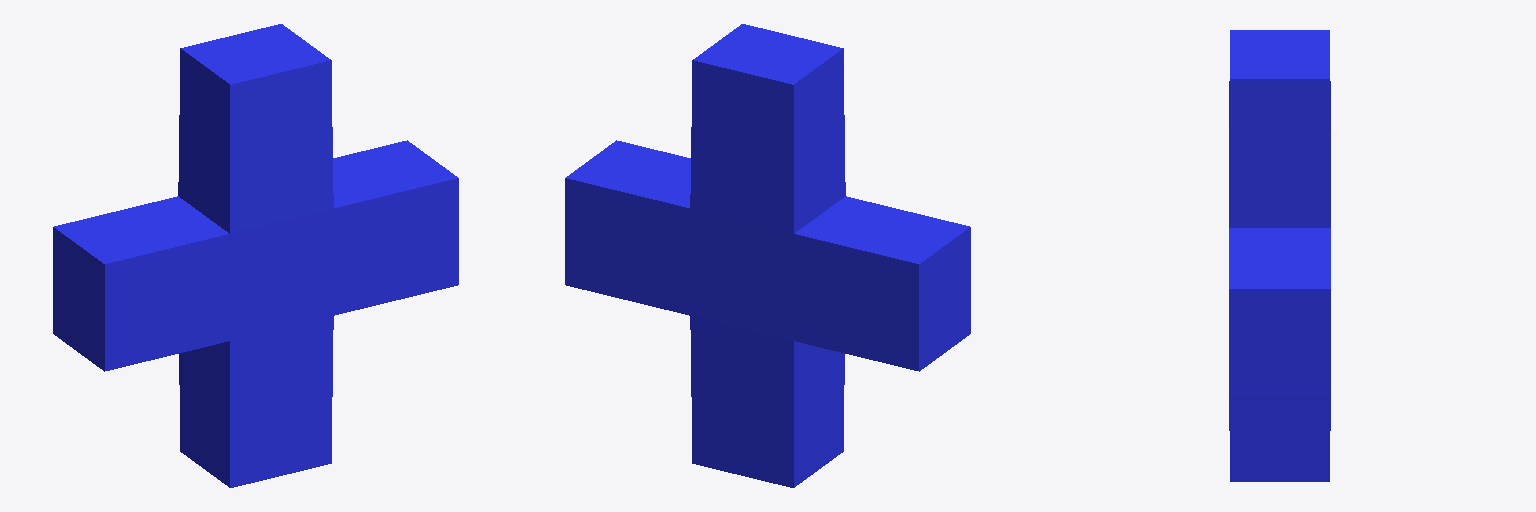
File: cruz.obj
3 renders of one model, left to right at view 1: azimuth 30°, elevation 25°; view 2: azimuth 150°, elevation 25°; view 3: azimuth 270°, elevation 25°, orthographic.
Parts seen in each view (by area): view 1: pCube1; view 2: pCube1; view 3: pCube1.
Part boxes in pixels (bbox=[...]): pCube1: bbox=[53, 24, 458, 487]; pCube1: bbox=[565, 24, 970, 487]; pCube1: bbox=[1229, 30, 1330, 481].
Bounding box in the file's own units: 23.85 × 25.96 × 6.